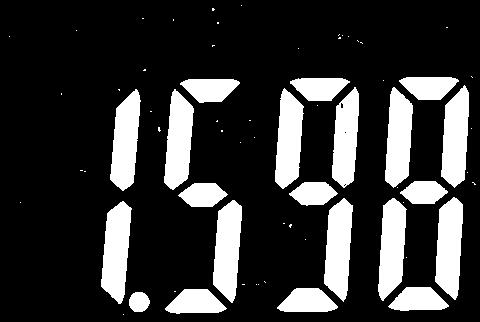1: (99, 83, 138, 307)
5: (163, 76, 245, 314)
8: (375, 76, 472, 309)
9: (272, 76, 361, 313)
dot: (127, 291, 152, 313)
